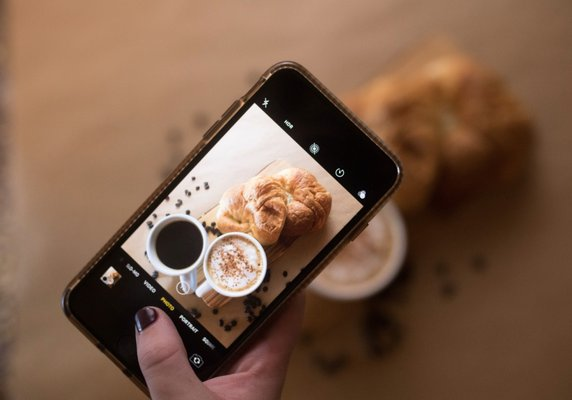pizza: (145, 214, 208, 296)
